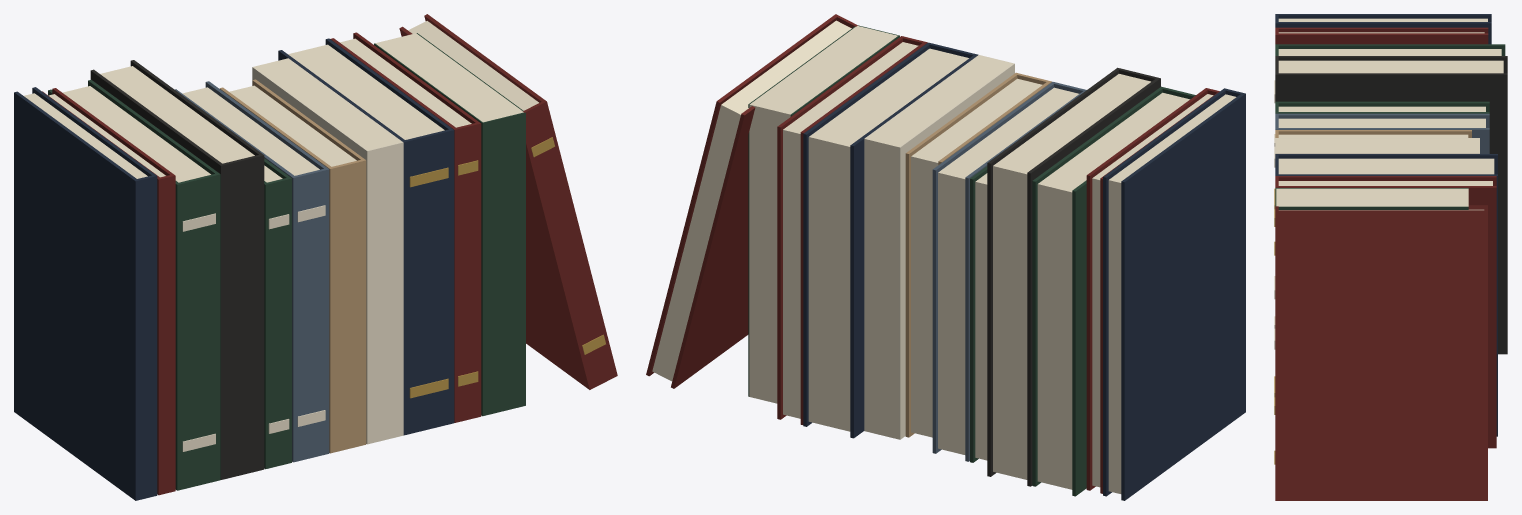
3 renders of one model, left to right at view 1: azimuth 30°, elevation 25°; view 2: azimuth 150°, elevation 25°; view 3: azimuth 270°, elevation 25°, orthographic. The views are drawn at different scales.
Visible parts, largest first — view 1: book, book.008, book.003, book.002, book.011, book.010, book.007, book.005, book.006, book.009, book.004, book.001; view 2: book, book.008, book.002, book.003, book.011, book.007, book.005, book.010, book.006, book.009, book.001, book.004; view 3: book.011, book.003, book.008, book.009, book.010, book.005, book.001, book.007, book, book.002, book.004, book.006.
Boxes of the visible parts, x1,y1,x2,y2 form: book: (14,87,157,500); book.008: (278,38,454,435); book.003: (90,60,264,479); book.002: (48,79,220,490); book.011: (399,14,617,389); book.010: (374,33,525,416); book.007: (252,58,403,444); book.005: (175,81,329,462); book.006: (219,79,366,453); book.009: (330,32,481,422); book.004: (264,158,291,469); book.001: (42,88,175,495); book: (1103,88,1245,500); book.008: (803,42,978,438); book.002: (1032,86,1195,496); book.003: (987,67,1160,486); book.011: (646,14,857,388); book.007: (864,55,1014,439); book.005: (932,81,1086,461); book.010: (748,25,899,403); book.006: (905,72,1051,437); book.009: (777,36,927,424); book.001: (1086,88,1219,493); book.004: (970,166,987,462); book.011: (1274,205,1487,500); book.003: (1275,56,1507,354); book.008: (1274,154,1497,436); book.009: (1274,176,1496,448); book.010: (1275,188,1468,209); book.005: (1274,113,1489,349); book.001: (1275,27,1488,44); book.007: (1275,138,1479,153); book: (1275,14,1491,44); book.002: (1274,44,1505,299); book.004: (1274,101,1489,328); book.006: (1275,130,1471,137).
Size of the model in its own units: 0.3998 by 0.2533 by 0.1882.
